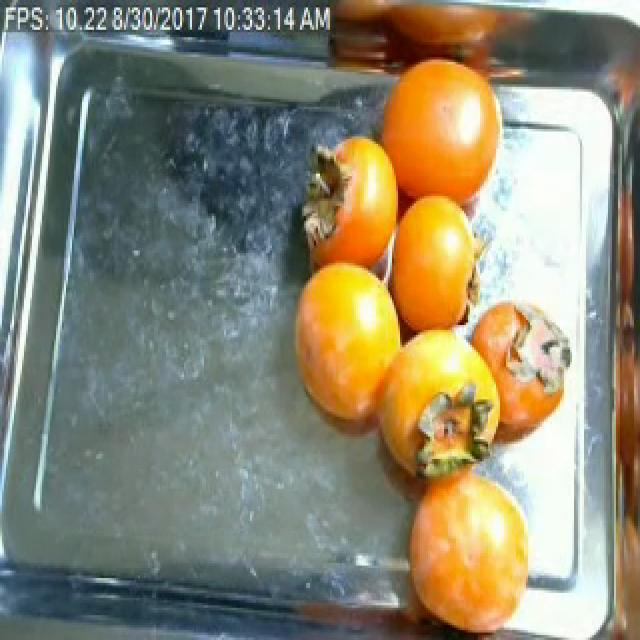Fruit: (384, 444, 548, 640), (462, 290, 536, 390)
